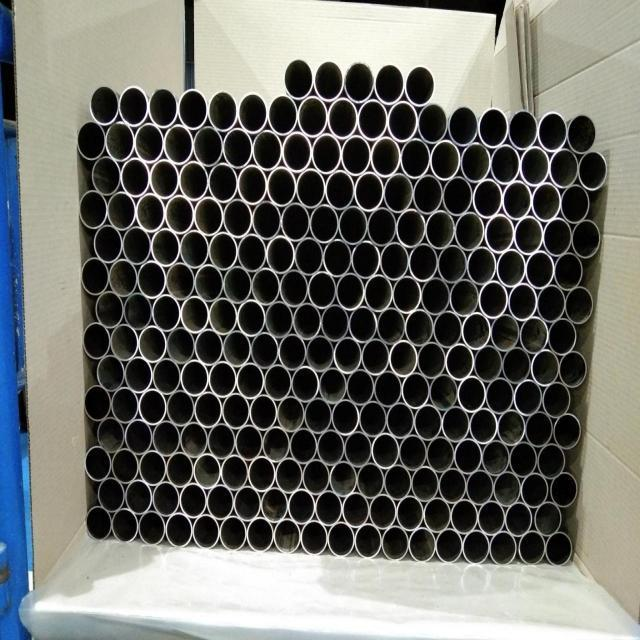pipe: (343, 60, 375, 103), (267, 93, 298, 136), (311, 132, 342, 175), (148, 85, 179, 128), (283, 57, 314, 100), (405, 63, 436, 106), (417, 101, 448, 144), (313, 58, 344, 101), (297, 95, 328, 138), (370, 135, 401, 178), (374, 61, 405, 104), (448, 103, 479, 146), (237, 91, 268, 133), (134, 121, 165, 163), (430, 138, 461, 180), (193, 124, 223, 167), (341, 133, 371, 176), (208, 89, 238, 132), (387, 99, 417, 142), (327, 96, 357, 139), (163, 122, 193, 165), (237, 163, 267, 206), (252, 128, 282, 171), (222, 126, 252, 169), (281, 130, 311, 173), (357, 98, 387, 141), (537, 111, 568, 152), (567, 113, 598, 154), (484, 213, 515, 254), (460, 141, 491, 182), (149, 158, 179, 200), (178, 88, 208, 130), (400, 137, 430, 179), (105, 120, 135, 162), (413, 173, 443, 215), (266, 165, 296, 207), (508, 108, 538, 150), (519, 145, 549, 187), (478, 106, 508, 148), (383, 171, 413, 213), (490, 143, 520, 185), (454, 211, 485, 251), (90, 84, 120, 125), (179, 160, 209, 201), (119, 85, 149, 126), (164, 194, 194, 235), (442, 175, 472, 216), (208, 162, 238, 203), (325, 169, 355, 210), (560, 183, 590, 224), (295, 167, 325, 208), (396, 208, 426, 249), (120, 156, 150, 197), (548, 147, 578, 188), (354, 171, 384, 212), (222, 197, 252, 238), (542, 216, 572, 257), (502, 179, 532, 220), (366, 206, 396, 247), (92, 154, 121, 196), (193, 196, 223, 236), (135, 192, 165, 232), (208, 231, 238, 271), (237, 233, 267, 273), (179, 228, 209, 268), (309, 203, 339, 243), (338, 205, 368, 245), (106, 190, 136, 230), (294, 236, 324, 276), (425, 209, 455, 249), (408, 242, 438, 282), (571, 218, 601, 258), (437, 243, 467, 283), (578, 150, 608, 190), (472, 178, 502, 218), (513, 215, 543, 255), (466, 245, 496, 285), (150, 227, 180, 267), (420, 276, 450, 316), (280, 202, 310, 242), (379, 240, 409, 280), (77, 120, 106, 161), (252, 199, 281, 240), (532, 181, 561, 222), (449, 278, 479, 317), (93, 224, 123, 263), (194, 263, 224, 302), (525, 250, 555, 289), (478, 280, 508, 319), (351, 240, 381, 279), (432, 309, 462, 348), (496, 248, 526, 287), (518, 315, 548, 354), (501, 346, 531, 385), (553, 251, 583, 290), (122, 225, 151, 265), (323, 238, 352, 278), (79, 189, 108, 229), (109, 257, 138, 297), (461, 312, 491, 350), (165, 326, 195, 364), (236, 361, 265, 400), (321, 303, 350, 342), (166, 261, 195, 300), (223, 265, 252, 304), (251, 267, 280, 306), (124, 291, 153, 330), (308, 270, 337, 309), (279, 269, 308, 308), (137, 260, 166, 299), (266, 235, 295, 274), (364, 273, 393, 312), (508, 282, 537, 321), (209, 296, 238, 335), (336, 272, 365, 311), (548, 317, 577, 356), (82, 321, 111, 360), (537, 283, 566, 322), (392, 275, 421, 314), (405, 308, 434, 347), (565, 285, 594, 324), (490, 313, 519, 352), (81, 256, 109, 296), (484, 377, 514, 414), (513, 379, 543, 416), (222, 329, 251, 367), (250, 331, 279, 369), (180, 295, 209, 333), (293, 302, 322, 340), (265, 300, 294, 338), (152, 294, 181, 332), (95, 290, 124, 328), (237, 299, 266, 337), (138, 324, 167, 362), (194, 327, 223, 365), (124, 355, 153, 393), (278, 333, 307, 371), (152, 357, 181, 395), (389, 339, 418, 377), (291, 365, 320, 403), (474, 344, 503, 382), (263, 363, 292, 401), (334, 336, 363, 374), (166, 389, 195, 427), (208, 360, 237, 398), (373, 370, 402, 408), (445, 342, 474, 380), (180, 359, 209, 397), (542, 380, 571, 418), (457, 375, 486, 413), (110, 323, 139, 361), (413, 403, 442, 441), (525, 410, 554, 448), (304, 397, 333, 435), (305, 334, 334, 372), (426, 435, 455, 473), (496, 408, 525, 446), (531, 348, 560, 386), (207, 422, 236, 460), (417, 341, 446, 379), (429, 373, 458, 411), (441, 405, 470, 443), (377, 306, 405, 345), (386, 401, 415, 438), (194, 391, 223, 428), (165, 451, 194, 488), (509, 441, 538, 478), (193, 452, 222, 489), (521, 471, 550, 508), (537, 442, 566, 479), (553, 413, 582, 450), (453, 438, 482, 475), (233, 484, 261, 522), (249, 393, 277, 431), (349, 305, 377, 343), (248, 455, 276, 493), (346, 368, 374, 406), (361, 337, 389, 375), (235, 423, 263, 461), (111, 386, 139, 424), (331, 398, 359, 436), (276, 395, 304, 433), (359, 400, 387, 438), (371, 431, 399, 469), (344, 430, 372, 468), (481, 439, 509, 477), (469, 407, 497, 445), (152, 419, 180, 457), (401, 371, 429, 409), (289, 426, 317, 464), (275, 456, 303, 494), (180, 420, 208, 458), (398, 433, 426, 471), (262, 425, 290, 463), (319, 366, 347, 404), (329, 459, 357, 497), (96, 354, 124, 392), (438, 467, 466, 505), (559, 350, 587, 388), (96, 415, 124, 453), (138, 387, 166, 425), (246, 516, 274, 553), (222, 392, 250, 429), (261, 486, 289, 523), (152, 480, 180, 517), (125, 418, 153, 455), (287, 488, 315, 525), (192, 513, 220, 550), (179, 482, 207, 519), (219, 514, 247, 551), (493, 470, 521, 507), (111, 447, 139, 484), (206, 484, 234, 521), (83, 384, 111, 421), (138, 509, 166, 546), (124, 478, 152, 515), (356, 461, 384, 498), (220, 454, 248, 491), (381, 524, 409, 561), (315, 489, 343, 526), (316, 429, 344, 466), (302, 458, 330, 495), (383, 463, 411, 500), (354, 522, 382, 559), (411, 465, 439, 502), (369, 493, 397, 530), (138, 449, 166, 486), (342, 491, 370, 528), (450, 498, 478, 535), (423, 496, 451, 533), (466, 469, 494, 506), (396, 495, 424, 532), (274, 517, 301, 555), (505, 501, 533, 537), (533, 501, 561, 537), (518, 530, 546, 566), (97, 476, 125, 512), (550, 472, 578, 508), (489, 530, 517, 566), (545, 530, 573, 566), (477, 500, 505, 536), (301, 519, 328, 556), (328, 520, 355, 557), (112, 507, 139, 544), (409, 526, 436, 563), (463, 528, 490, 565), (85, 445, 112, 482), (436, 527, 463, 564), (165, 511, 192, 548), (86, 505, 112, 542)
